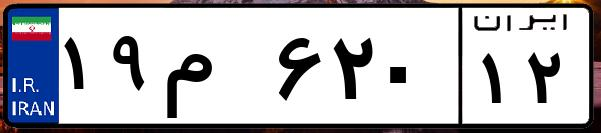0: (385, 28, 445, 110)
1: (57, 26, 110, 100), (475, 38, 525, 113)
2: (330, 28, 385, 110), (525, 38, 570, 115)
6: (270, 28, 330, 110)
9: (110, 28, 158, 98)
م: (158, 20, 270, 120)
